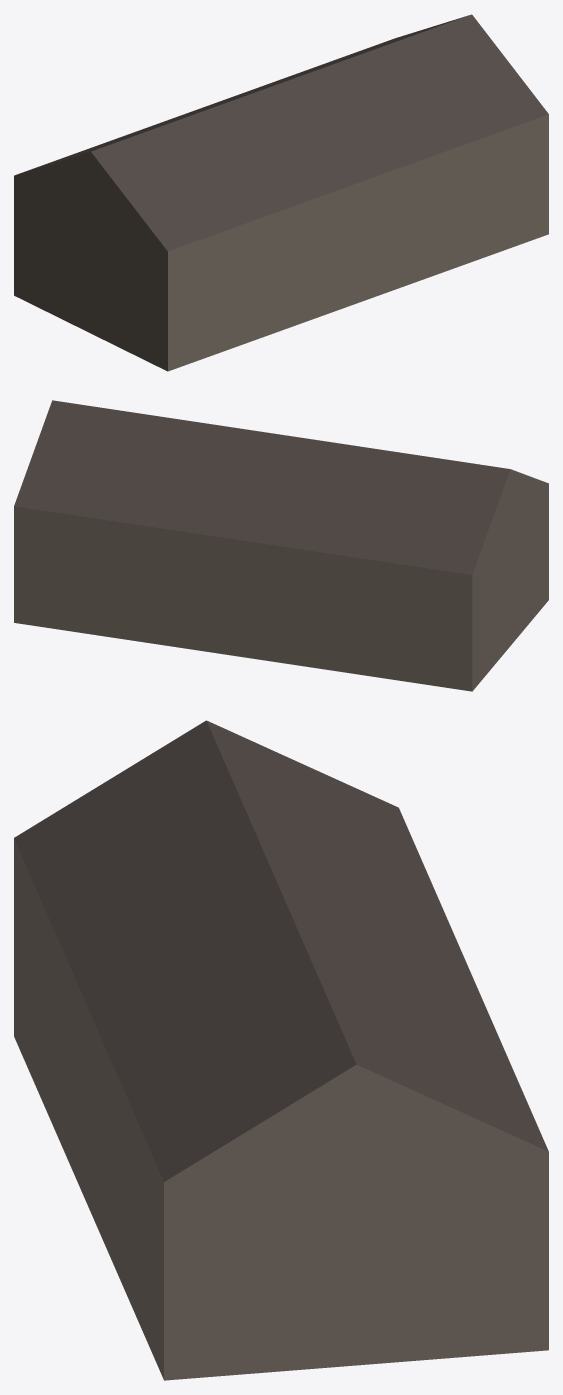
3 views of the same model, one above another, from view 1: azimuth 30°, elevation 25°; view 2: azimuth 150°, elevation 25°; view 3: azimuth 270°, elevation 25° (orthographic). The views are drawn at different scales.
Parts seen in each view (by area): view 1: HP-w858807453; view 2: HP-w858807453; view 3: HP-w858807453.
Part boxes in pixels (box(x1,y1,x2,y2)): HP-w858807453: box(14, 14, 548, 371); HP-w858807453: box(14, 400, 548, 691); HP-w858807453: box(14, 720, 548, 1380).
Size of the model in its own units: 24.28 by 9.1 by 14.66.
